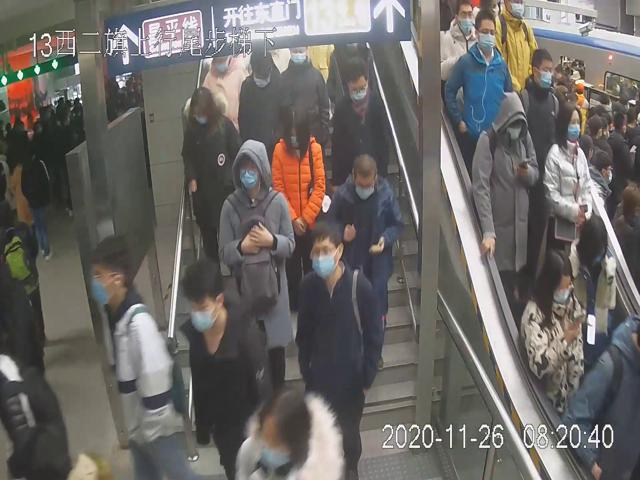person: (295, 221, 379, 480), (214, 136, 295, 386), (180, 254, 271, 467), (326, 154, 402, 371), (469, 88, 537, 305), (269, 95, 326, 318), (519, 248, 585, 420), (181, 83, 242, 252), (446, 9, 514, 145), (543, 100, 593, 280), (329, 59, 389, 193), (239, 48, 293, 156), (518, 44, 564, 167)
